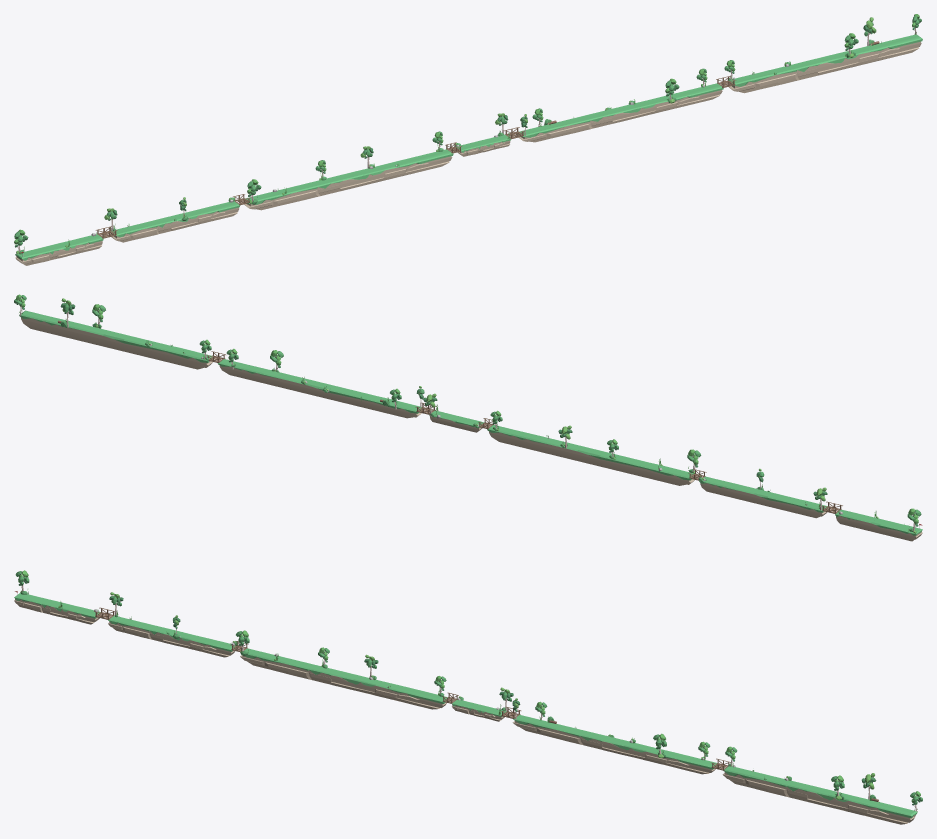
The model's file is Park_Map_lvl_4_LANG.fbx.
3 views of the same model, one above another, from view 1: azimuth 30°, elevation 25°; view 2: azimuth 150°, elevation 25°; view 3: azimuth 330°, elevation 25° (orthographic).
Parts seen in each view (by area): view 1: polySurface2423; view 2: polySurface2423; view 3: polySurface2423.
Part boxes in pixels (bbox=[...]): polySurface2423: bbox=[14, 14, 922, 265]; polySurface2423: bbox=[14, 294, 922, 541]; polySurface2423: bbox=[14, 570, 922, 824].
Size of the model in its own units: 624 by 25.76 by 14.78.
